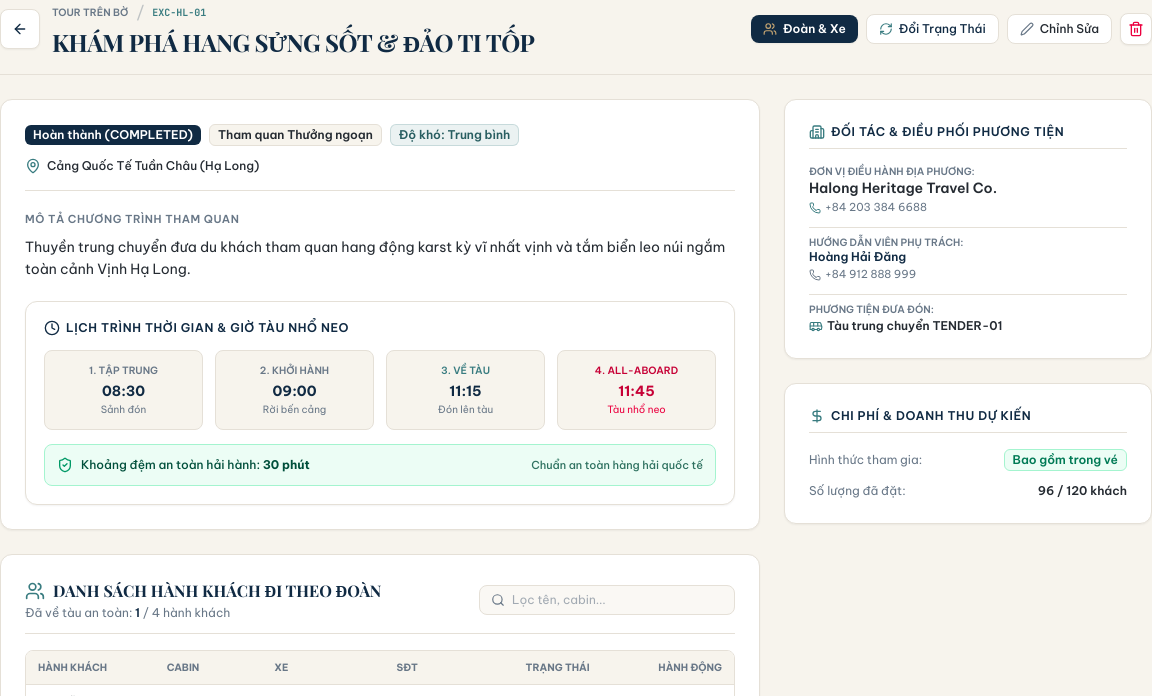
Test case: ExcursionDetailPage Component Tests (KAN-172) › opens ExcursionModal in edit mode when clicking "Chỉnh Sửa"
The image size is (1152, 696).
Expected: the text "EXC-HL-01" is shown, x1=152 y1=4 x2=206 y2=20
Click the button "Chỉnh Sửa" at (1059, 29), box x1=1007 y1=14 x2=1112 y2=44
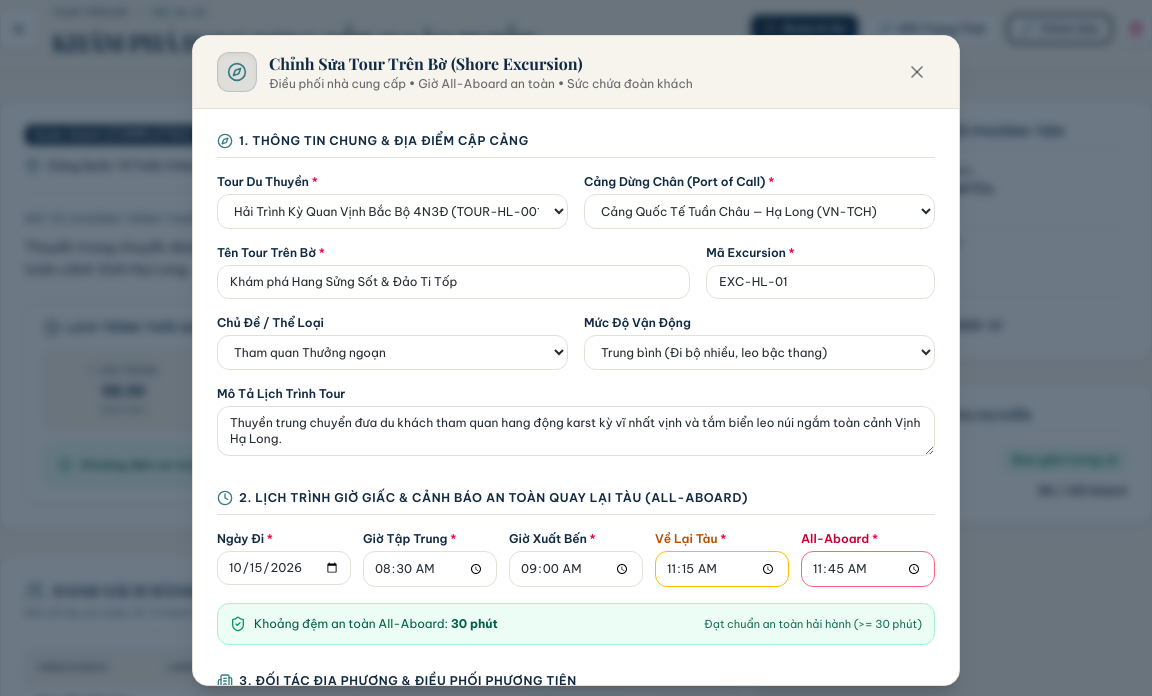
Result: the heading "Chỉnh Sửa Tour Trên Bờ (Shore Excursion)" is shown at x1=269 y1=52 x2=582 y2=74
